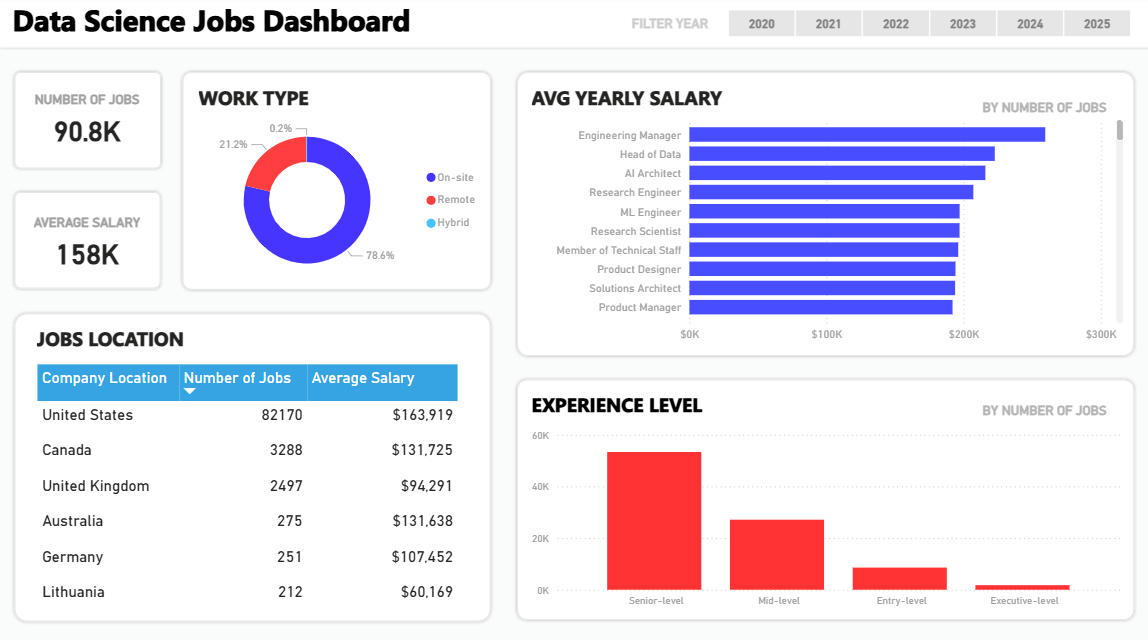

This screenshot's page, from the dashboard's own definition file:
{"tool":"powerbi","page":{"name":"Data Science Jobs","canvas":[1280,720],"ordinal":0},"visuals":[{"type":"shape","box":[0,0,1280.9,92.7],"z":0},{"type":"shape","box":[0,56.3,1280.5,665.9],"z":1000},{"type":"shape","box":[571.4,80.4,689.3,321.4],"z":2000},{"type":"shape","box":[16.6,347.9,533.4,347.9],"z":3000},{"type":"shape","box":[571.4,421.4,689.3,273.2],"z":4000},{"type":"shape","box":[16.1,80.4,169.6,114.3],"z":5000},{"type":"shape","box":[16.6,213.7,169,114.3],"z":6000},{"type":"shape","box":[201.8,80.4,348.2,248.2],"z":7000},{"type":"cardVisual","fields":{"Data":["CountNonNull(data_jobs_cleaned.job_title)"]},"box":[16.6,79.5,169,114.3],"z":8000},{"type":"donutChart","title":"WORK TYPE","fields":{"Category":["data_jobs_cleaned.work_type"],"Y":["CountNonNull(data_jobs_cleaned.work_type)"]},"box":[207.1,124.2,336.3,203.7],"z":9000},{"type":"cardVisual","fields":{"Data":["Avg(data_jobs_cleaned.usd_yearly_salary)"]},"box":[16.6,215.3,169,114.3],"z":10000},{"type":"barChart","title":"YEARLY SALARY PER JOB TITLE","fields":{"Category":["data_jobs_cleaned.Job_title"],"Y":["Avg(data_jobs_cleaned.usd_yearly_salary)"]},"box":[585.8,124.7,663.3,264.6],"z":11000},{"type":"columnChart","title":"NUMBER OF JOBS PER EXP LEVEL","fields":{"Category":["data_jobs_cleaned.experience_level"],"Y":["CountNonNull(data_jobs_cleaned.Job_title)"]},"box":[586.4,470.4,662.6,212],"z":12000},{"type":"tableEx","fields":{"Values":["data_jobs_cleaned.company_location","CountNonNull(data_jobs_cleaned.Job_title)","Avg(data_jobs_cleaned.usd_yearly_salary)"]},"box":[39.8,402.5,485.3,279.9],"z":13000},{"type":"textbox","box":[586.4,432.3,384.3,49.7],"z":14000},{"type":"textbox","box":[586.4,92.8,236.9,44.7],"z":15000},{"type":"textbox","box":[218.7,92.8,157.4,44.7],"z":16000},{"type":"textbox","box":[1035.3,109.3,245.2,29.8],"z":17000},{"type":"textbox","box":[1035.3,443.9,245.2,38.1],"z":18000},{"type":"textbox","box":[40,360,202,42],"z":19000},{"type":"textbox","box":[13.3,0,458.3,55],"z":20000},{"type":"slicer","fields":{"Values":["data_jobs_cleaned.work_year"]},"box":[783.7,9.3,492.7,40.7],"z":21000},{"type":"shape","box":[510.2,407.5,13,269.8],"z":22000},{"type":"textbox","box":[685,16,117,30],"z":23000}]}

Visuals, with their boxes in screenshot pixels (x1, y1, x2, y2), scaled from the page's 1280x720 canvas onto the 1148x640 screenshot:
shape: (x1=0, y1=0, x2=1147, y2=82)
shape: (x1=0, y1=50, x2=1147, y2=639)
shape: (x1=512, y1=71, x2=1131, y2=357)
shape: (x1=15, y1=309, x2=493, y2=618)
shape: (x1=512, y1=375, x2=1131, y2=617)
shape: (x1=14, y1=71, x2=167, y2=173)
shape: (x1=15, y1=190, x2=166, y2=292)
shape: (x1=181, y1=71, x2=493, y2=292)
cardVisual - CountNonNull(data_jobs_cleaned.job_title): (x1=15, y1=71, x2=166, y2=172)
"WORK TYPE" donutChart: (x1=186, y1=110, x2=487, y2=291)
cardVisual - Avg(data_jobs_cleaned.usd_yearly_salary): (x1=15, y1=191, x2=166, y2=293)
"YEARLY SALARY PER JOB TITLE" barChart: (x1=525, y1=111, x2=1120, y2=346)
"NUMBER OF JOBS PER EXP LEVEL" columnChart: (x1=526, y1=418, x2=1120, y2=607)
tableEx - data_jobs_cleaned.company_location x CountNonNull(data_jobs_cleaned.Job_title): (x1=36, y1=358, x2=471, y2=607)
textbox: (x1=526, y1=384, x2=871, y2=428)
textbox: (x1=526, y1=82, x2=738, y2=122)
textbox: (x1=196, y1=82, x2=337, y2=122)
textbox: (x1=929, y1=97, x2=1147, y2=124)
textbox: (x1=929, y1=395, x2=1147, y2=428)
textbox: (x1=36, y1=320, x2=217, y2=357)
textbox: (x1=12, y1=0, x2=423, y2=49)
slicer - data_jobs_cleaned.work_year: (x1=703, y1=8, x2=1145, y2=44)
shape: (x1=458, y1=362, x2=469, y2=602)
textbox: (x1=614, y1=14, x2=719, y2=41)
